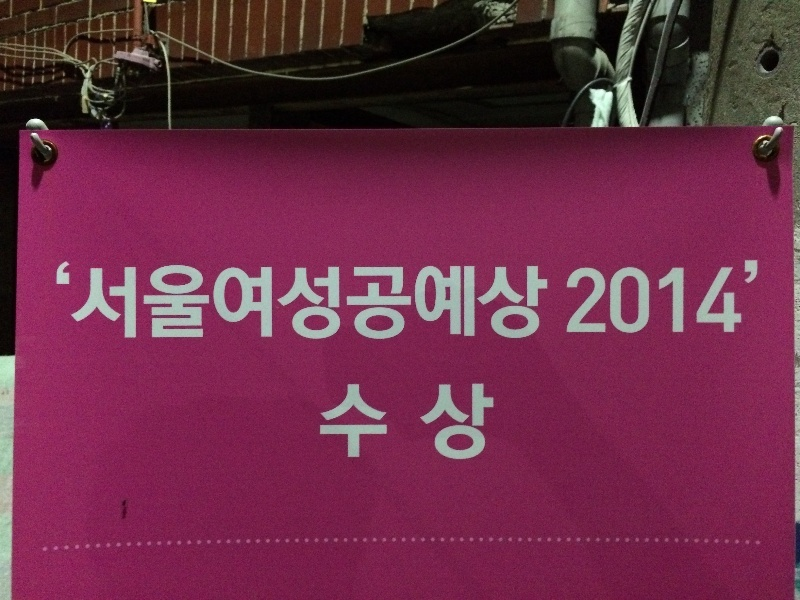text: (65, 257, 80, 344), (81, 257, 96, 344), (97, 257, 112, 344), (113, 257, 128, 344), (129, 257, 144, 344), (145, 257, 160, 344), (161, 257, 176, 344), (177, 257, 192, 344), (193, 257, 208, 344), (209, 257, 224, 344), (225, 257, 240, 344), (241, 257, 256, 344), (257, 257, 272, 344), (273, 257, 288, 344), (289, 257, 304, 344), (305, 257, 320, 344), (321, 257, 336, 344), (337, 257, 352, 344), (353, 257, 368, 344), (369, 257, 384, 344), (385, 257, 400, 344), (401, 257, 416, 344), (417, 257, 432, 344), (433, 257, 448, 344), (449, 257, 464, 344), (465, 257, 480, 344), (481, 257, 496, 344), (497, 257, 512, 344), (513, 257, 528, 344), (529, 257, 544, 344), (321, 380, 336, 463), (337, 380, 352, 463), (353, 380, 368, 463), (369, 380, 384, 463), (385, 380, 400, 463), (401, 380, 416, 463), (417, 380, 432, 463), (433, 380, 448, 463), (449, 380, 464, 463), (465, 380, 480, 463), (481, 380, 496, 463), (577, 257, 592, 338), (593, 257, 608, 338), (609, 257, 624, 338), (625, 257, 640, 338), (641, 257, 656, 338), (657, 257, 672, 338), (673, 257, 688, 338), (689, 257, 704, 338), (705, 257, 720, 338), (721, 257, 736, 338), (737, 257, 752, 338), (54, 257, 64, 344), (567, 257, 576, 338), (753, 257, 762, 338), (545, 257, 550, 344), (497, 380, 500, 463)
